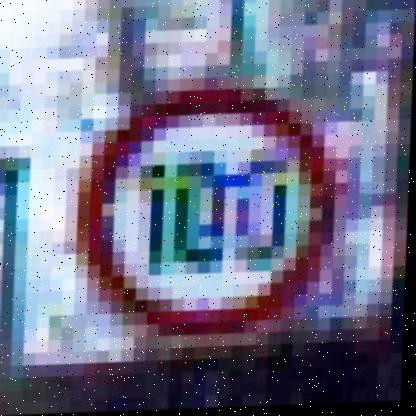Speed Limit -100-: (64, 83, 346, 349)
